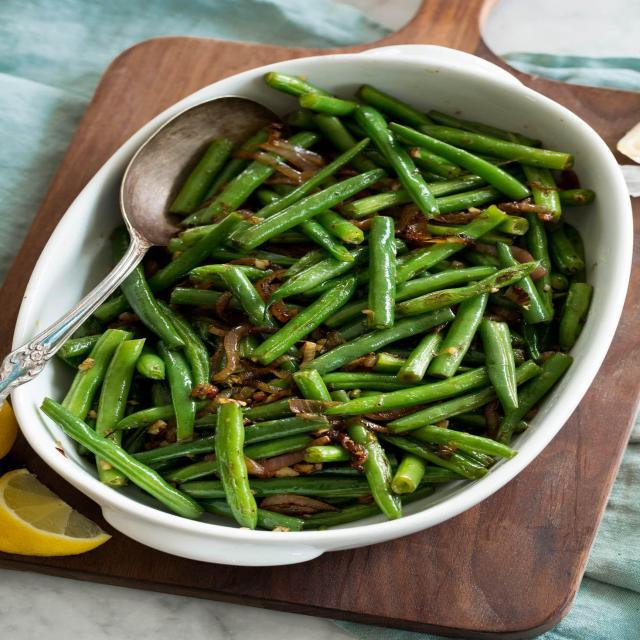Beans: (36, 69, 613, 535)
